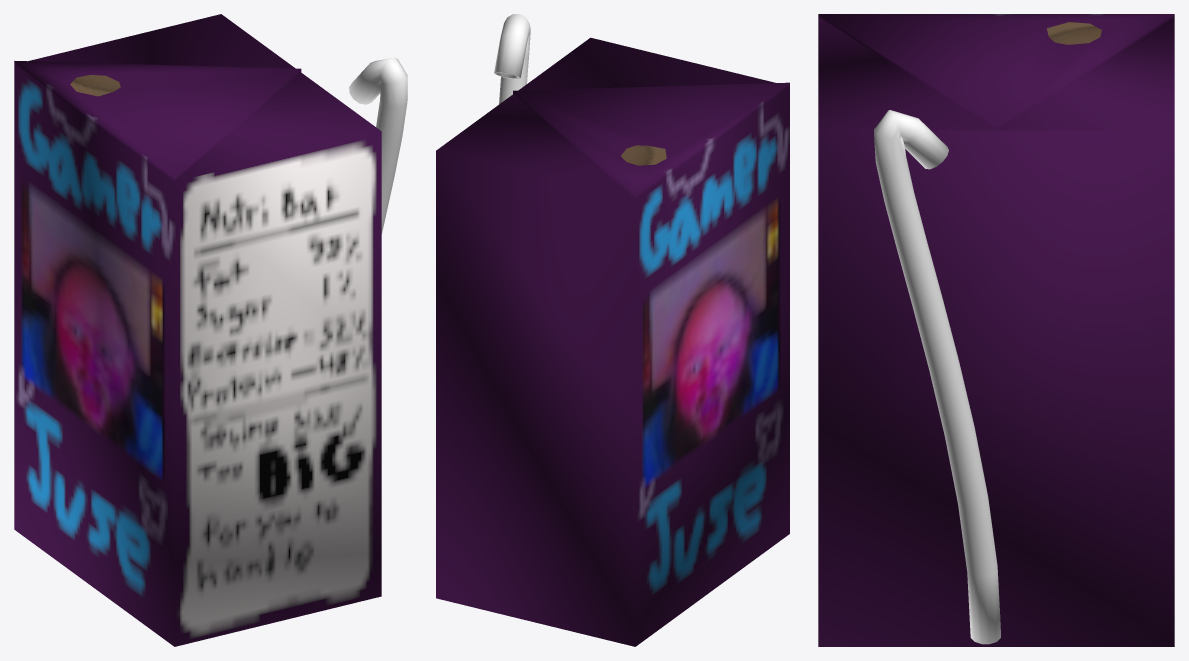
File: item-gamer-juse.glb
The picture shows the model from 3 angles, left to right: view 1: azimuth 30°, elevation 25°; view 2: azimuth 150°, elevation 25°; view 3: azimuth 270°, elevation 25°; orthographic projection. The views are drawn at different scales.
Size of the model in its own units: 0.0768 by 0.14 by 0.0808.
3 materials, 2 textured.
